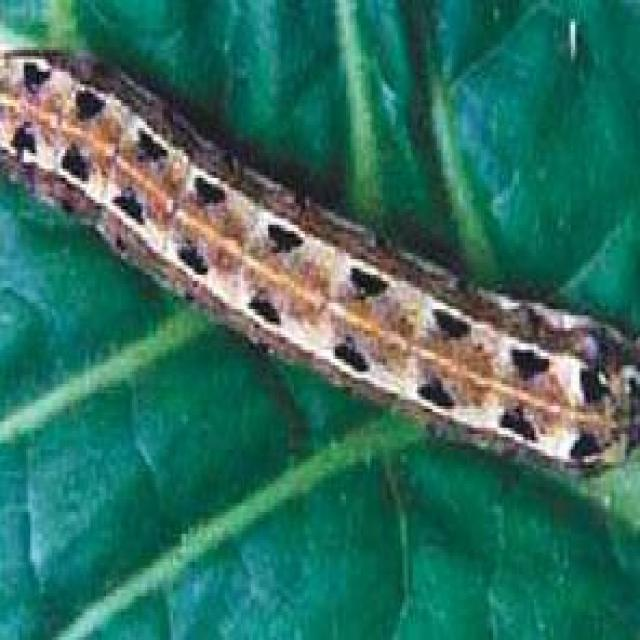armyworm: (1, 36, 640, 497)
